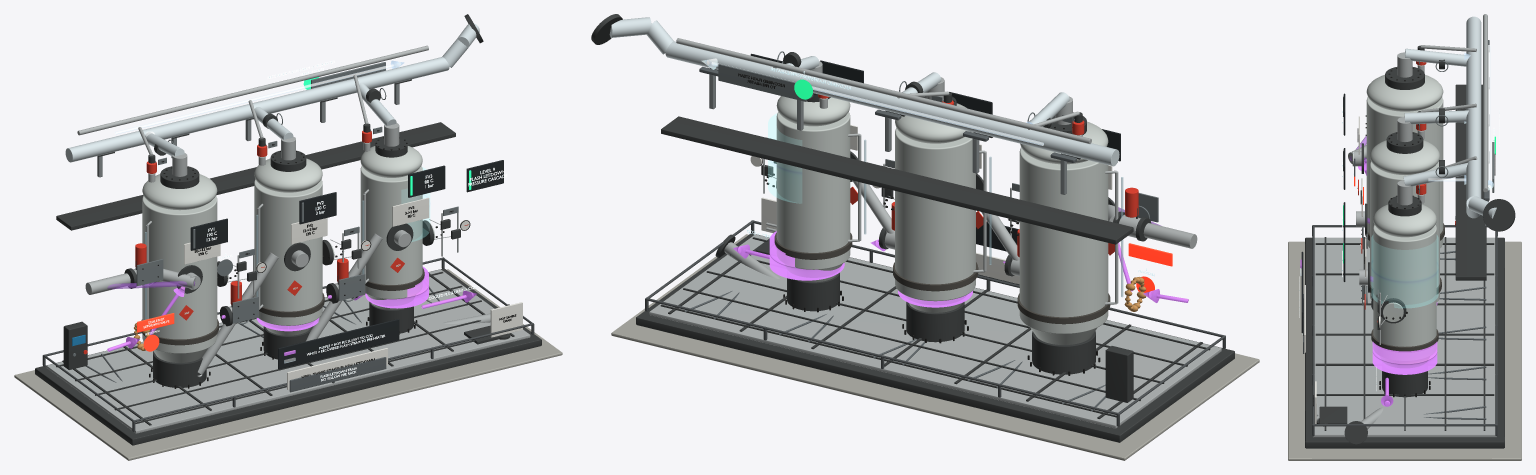
The model's file is FlashVesselTrain_Redesign.fbx.
3 views of the same model, side by side, from view 1: azimuth 30°, elevation 25°; view 2: azimuth 150°, elevation 25°; view 3: azimuth 270°, elevation 25° (orthographic). The views are drawn at different scales.
Parts seen in each view (by area): view 1: FlashLetdown_CheckerPlate_Deck, FlashLetdown_ConcreteBund_Pad, FV1_ThickWall_SeparatorShell, FlashLetdown_Skid_HeavyBaseFrame, FV2_ThickWall_SeparatorShell, RecoveredFlashSteam_MainHeader_Large, FV3_ThickWall_SeparatorShell, UpperServicePlatform_Grating_Wide, FlowLegend_Backplate, PSV_Relief_Collection_Header, FV1_LargeDishedTopHead, FV2_LargeDishedTopHead (+28 smaller); view 2: FlashLetdown_CheckerPlate_Deck, FV1_ThickWall_SeparatorShell, FlashLetdown_ConcreteBund_Pad, FV2_ThickWall_SeparatorShell, UpperServicePlatform_Grating_Wide, FlashLetdown_Skid_HeavyBaseFrame, FV3_ThickWall_SeparatorShell, RecoveredFlashSteam_MainHeader_Large, PSV_Relief_Collection_Header, FV1_SupportSkirt, FV2_SupportSkirt, NoYellow_DeckBack_ToeRail (+19 smaller); view 3: FlashLetdown_CheckerPlate_Deck, FlashLetdown_ConcreteBund_Pad, FV3_ThickWall_SeparatorShell, FlashLetdown_Skid_HeavyBaseFrame, FV3_XRay_VaporZone_Ghost, UpperServicePlatform_Grating_Wide, RecoveredFlashSteam_MainHeader_Large, FV1_ThickWall_SeparatorShell, FV2_ThickWall_SeparatorShell, FV1_LargeDishedTopHead, FV2_LargeDishedTopHead, FV3_XRay_SlurryPool_Ghost (+31 smaller).
Boxes of the visible parts, x1,y1,x2,y2 form: FlashLetdown_CheckerPlate_Deck: [46, 269, 530, 433]; FlashLetdown_ConcreteBund_Pad: [14, 269, 562, 460]; FV1_ThickWall_SeparatorShell: [142, 196, 217, 353]; FlashLetdown_Skid_HeavyBaseFrame: [35, 268, 541, 445]; FV2_ThickWall_SeparatorShell: [254, 179, 322, 325]; RecoveredFlashSteam_MainHeader_Large: [65, 57, 449, 162]; FV3_ThickWall_SeparatorShell: [360, 166, 422, 299]; UpperServicePlatform_Grating_Wide: [56, 122, 455, 230]; FlowLegend_Backplate: [278, 319, 399, 369]; PSV_Relief_Collection_Header: [77, 45, 428, 135]; FV1_LargeDishedTopHead: [142, 174, 217, 210]; FV2_LargeDishedTopHead: [254, 158, 322, 192]; FlashLetdown_CheckerPlate_Deck: [649, 234, 1221, 428]; FV1_ThickWall_SeparatorShell: [1019, 147, 1108, 333]; FlashLetdown_ConcreteBund_Pad: [611, 234, 1259, 460]; FV2_ThickWall_SeparatorShell: [895, 128, 975, 301]; UpperServicePlatform_Grating_Wide: [661, 116, 1133, 244]; FlashLetdown_Skid_HeavyBaseFrame: [636, 233, 1234, 442]; FV3_ThickWall_SeparatorShell: [776, 112, 850, 269]; RecoveredFlashSteam_MainHeader_Large: [665, 41, 1119, 166]; PSV_Relief_Collection_Header: [676, 38, 1091, 143]; FV1_SupportSkirt: [1032, 331, 1095, 374]; FV2_SupportSkirt: [906, 302, 964, 342]; NoYellow_DeckBack_ToeRail: [647, 298, 1117, 414]; FlashLetdown_CheckerPlate_Deck: [1313, 237, 1496, 437]; FlashLetdown_ConcreteBund_Pad: [1288, 241, 1521, 460]; FV3_ThickWall_SeparatorShell: [1373, 225, 1436, 360]; FlashLetdown_Skid_HeavyBaseFrame: [1305, 237, 1504, 448]; FV3_XRay_VaporZone_Ghost: [1371, 235, 1438, 307]; UpperServicePlatform_Grating_Wide: [1455, 84, 1486, 280]; RecoveredFlashSteam_MainHeader_Large: [1466, 16, 1481, 201]; FV1_ThickWall_SeparatorShell: [1366, 97, 1443, 247]; FV2_ThickWall_SeparatorShell: [1370, 161, 1439, 301]; FV1_LargeDishedTopHead: [1366, 75, 1443, 111]; FV2_LargeDishedTopHead: [1370, 140, 1439, 175]; FV3_XRay_SlurryPool_Ghost: [1372, 341, 1437, 374].
Size of the model in its own units: 1662 by 908 by 720.
